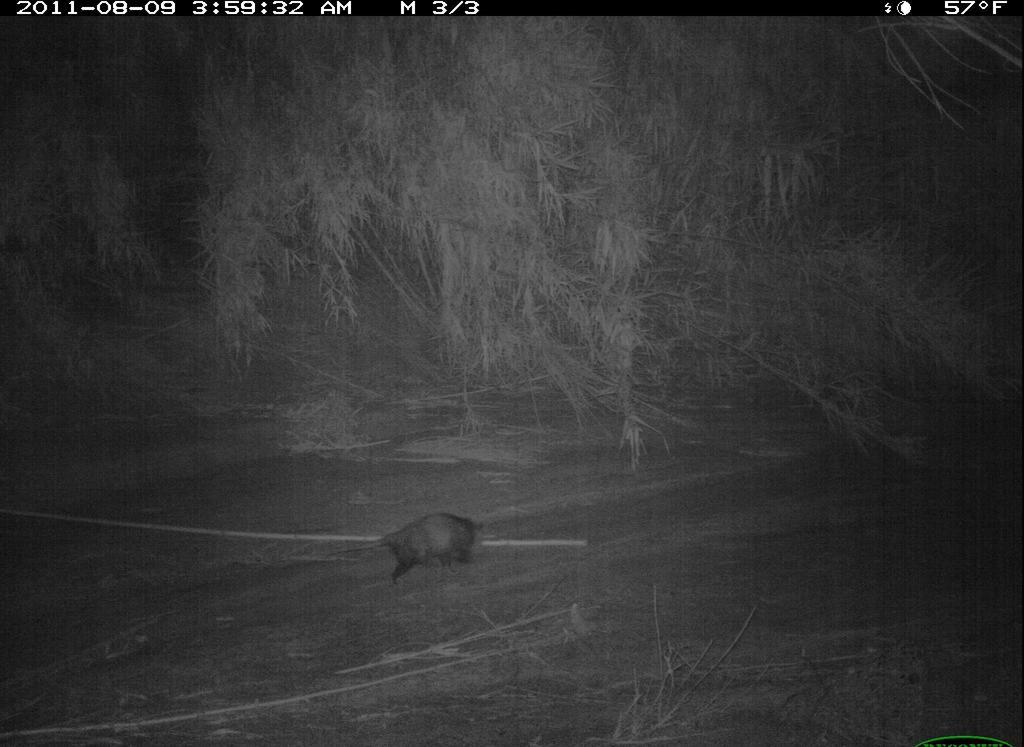opossum: (317, 496, 498, 593)
